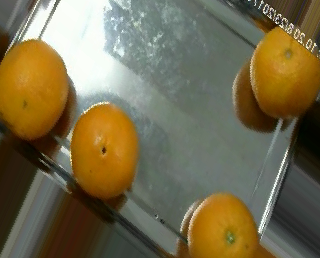Orange: (1, 37, 69, 140), (71, 100, 139, 199), (185, 190, 258, 258)
